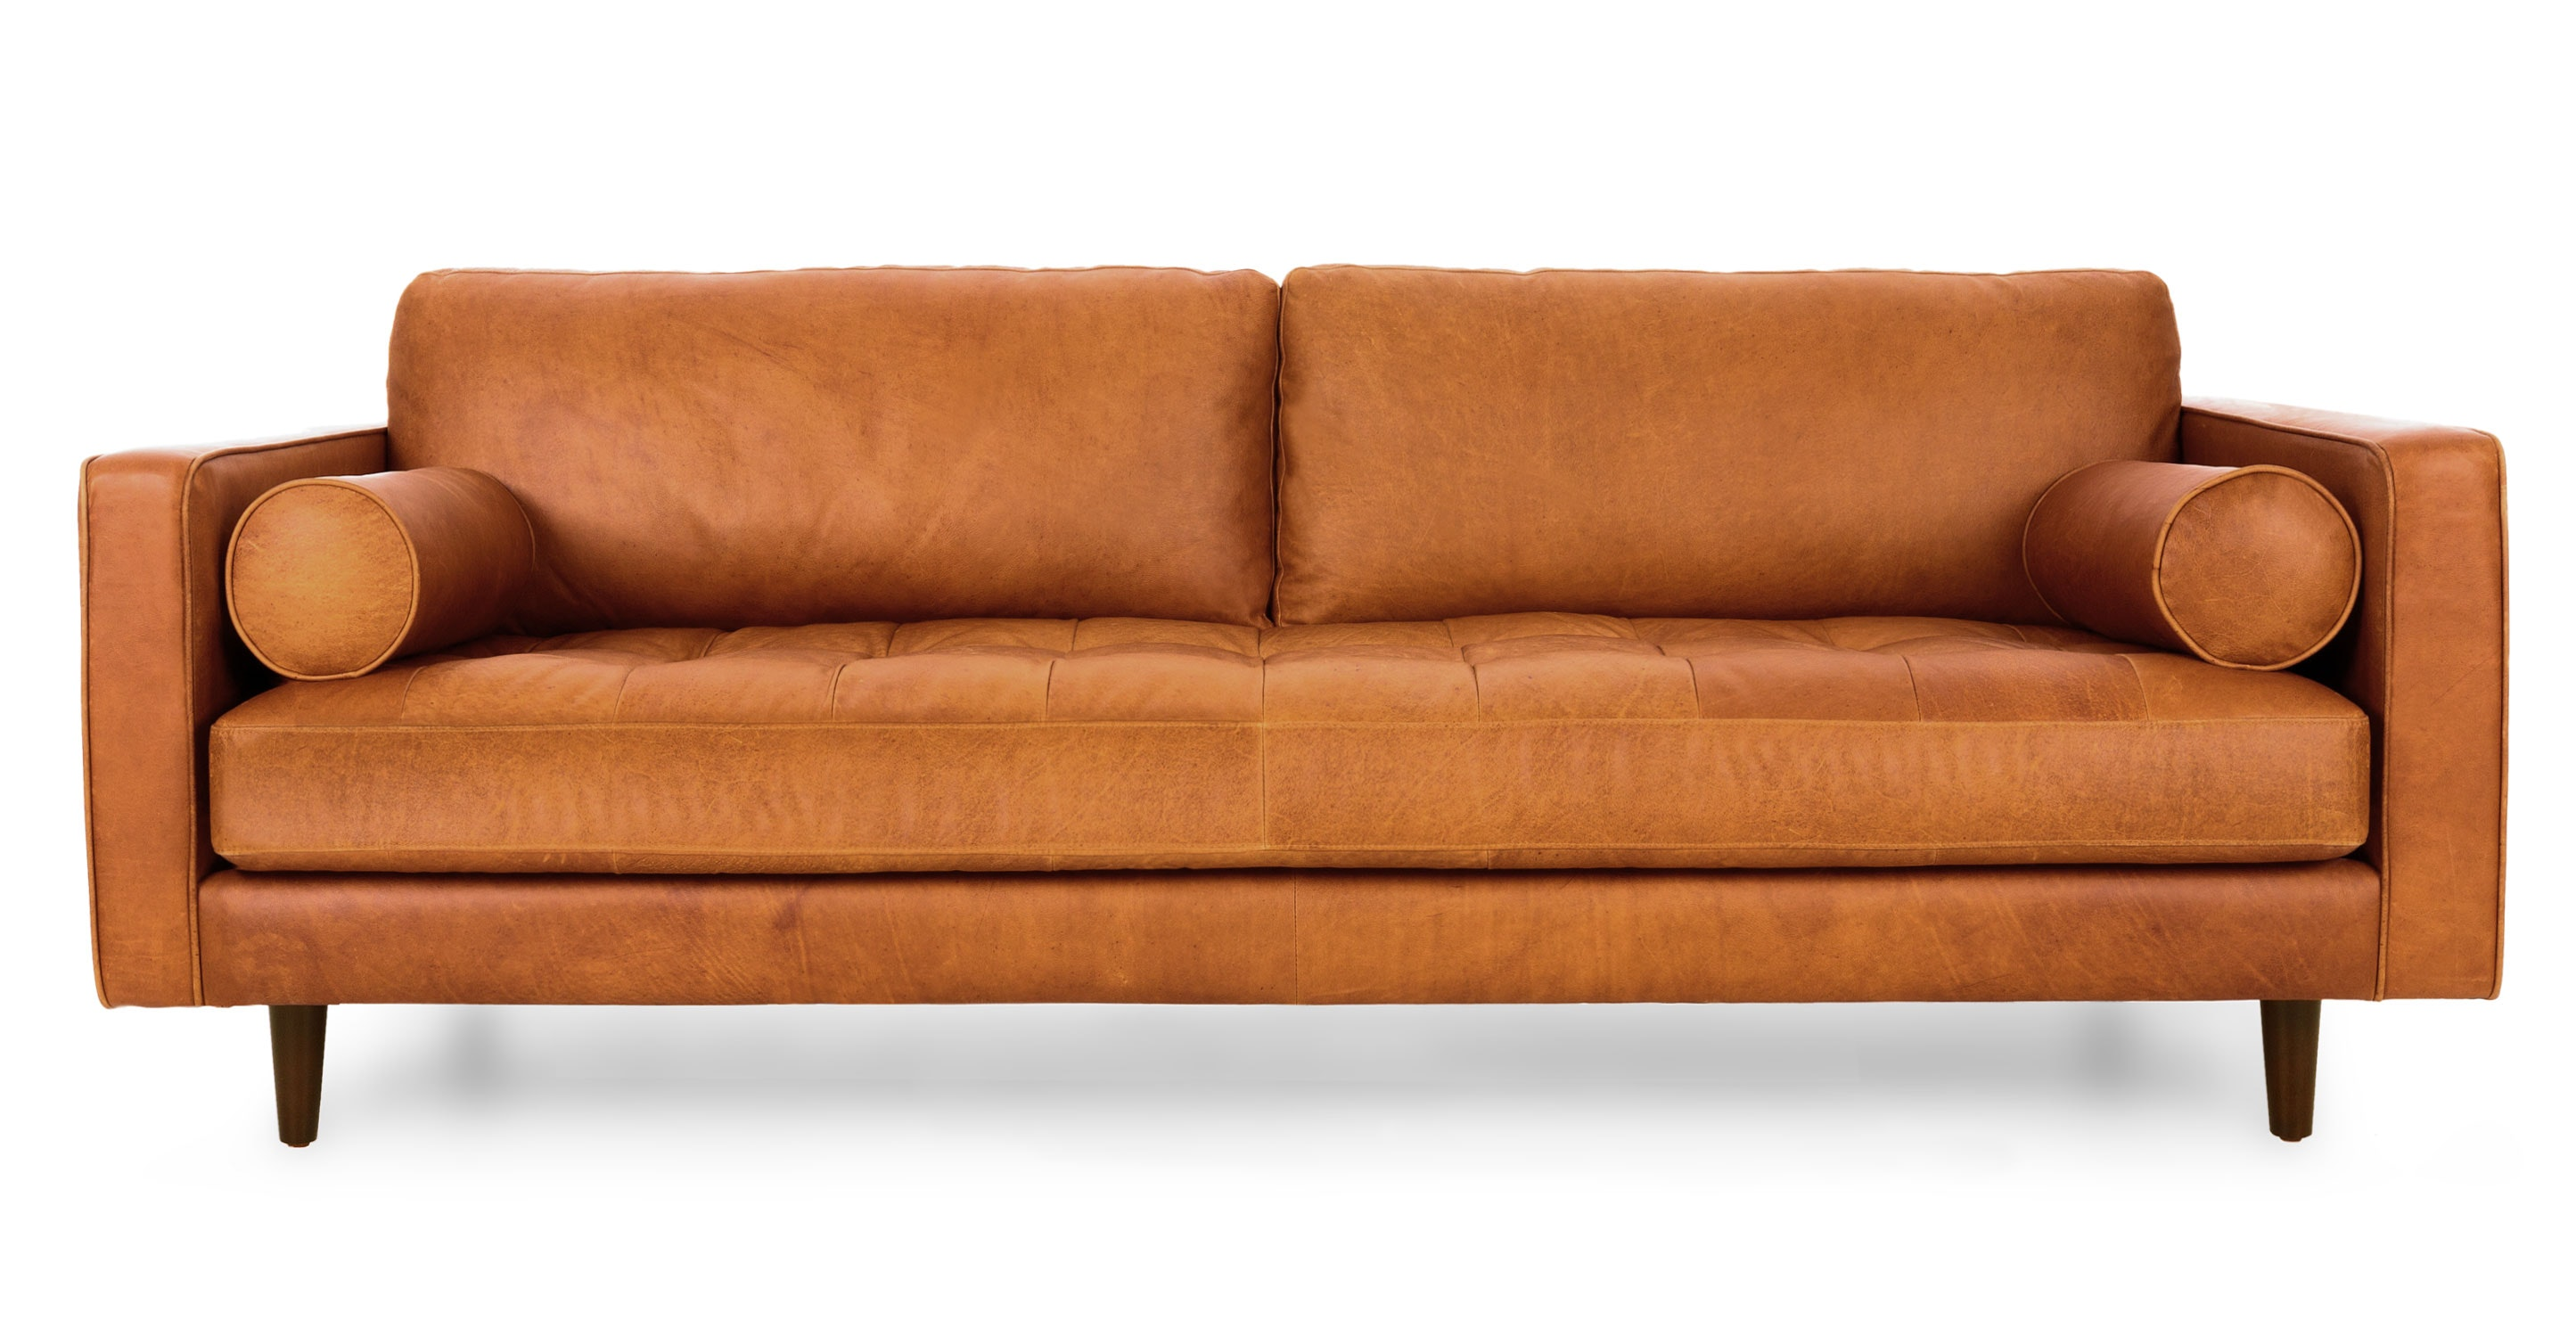chairs: (75, 244, 2527, 1165)
